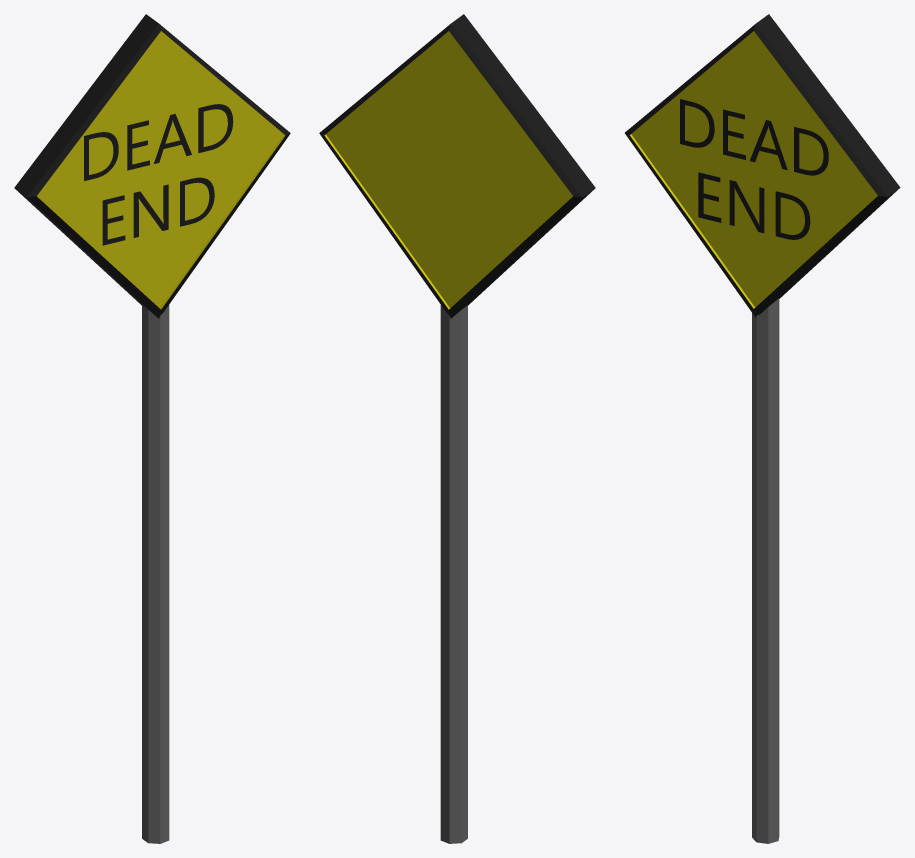
File: Schild IV deadend.fbx
3 renders of one model, left to right at view 1: azimuth 30°, elevation 25°; view 2: azimuth 150°, elevation 25°; view 3: azimuth 330°, elevation 25°, orthographic.
Parts seen in each view (by area): view 1: Würfel, Zylinder, Deckfläche_1_6, Deckfläche_1_4, Deckfläche_1, Deckfläche_1_7, Deckfläche_1_3, Deckfläche_1_5, Deckfläche_1_2; view 2: Würfel, Zylinder; view 3: Würfel, Zylinder, Deckfläche_1_6, Deckfläche_1_4, Deckfläche_1_7, Deckfläche_1, Deckfläche_1_3, Deckfläche_1_5.
Part boxes in pixels (left/top/right/bottom): Würfel: left=14, top=14, right=290, bottom=318; Zylinder: left=142, top=305, right=169, bottom=843; Deckfläche_1_6: left=133, top=184, right=168, bottom=237; Deckfläche_1_4: left=198, top=104, right=233, bottom=153; Deckfläche_1: left=84, top=132, right=118, bottom=180; Deckfläche_1_7: left=180, top=177, right=214, bottom=226; Deckfläche_1_3: left=154, top=113, right=191, bottom=163; Deckfläche_1_5: left=102, top=195, right=125, bottom=245; Deckfläche_1_2: left=127, top=120, right=149, bottom=170; Würfel: left=319, top=14, right=595, bottom=318; Zylinder: left=440, top=305, right=467, bottom=843; Würfel: left=625, top=14, right=900, bottom=317; Zylinder: left=752, top=298, right=779, bottom=843; Deckfläche_1_6: left=729, top=180, right=764, bottom=233; Deckfläche_1_4: left=794, top=127, right=828, bottom=175; Deckfläche_1_7: left=775, top=191, right=810, bottom=239; Deckfläche_1: left=680, top=99, right=714, bottom=147; Deckfläche_1_3: left=749, top=120, right=787, bottom=170; Deckfläche_1_5: left=698, top=172, right=721, bottom=222.
Size of the model in its own units: 107 by 318 by 12.15.
